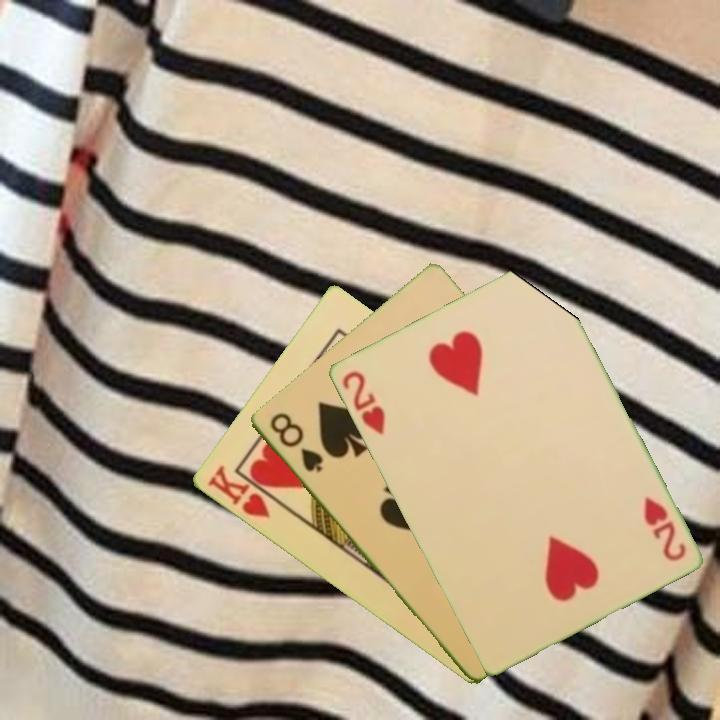2h: (338, 367, 388, 439), (639, 492, 689, 564)
8s: (265, 409, 326, 476)
Kh: (203, 461, 285, 521)
